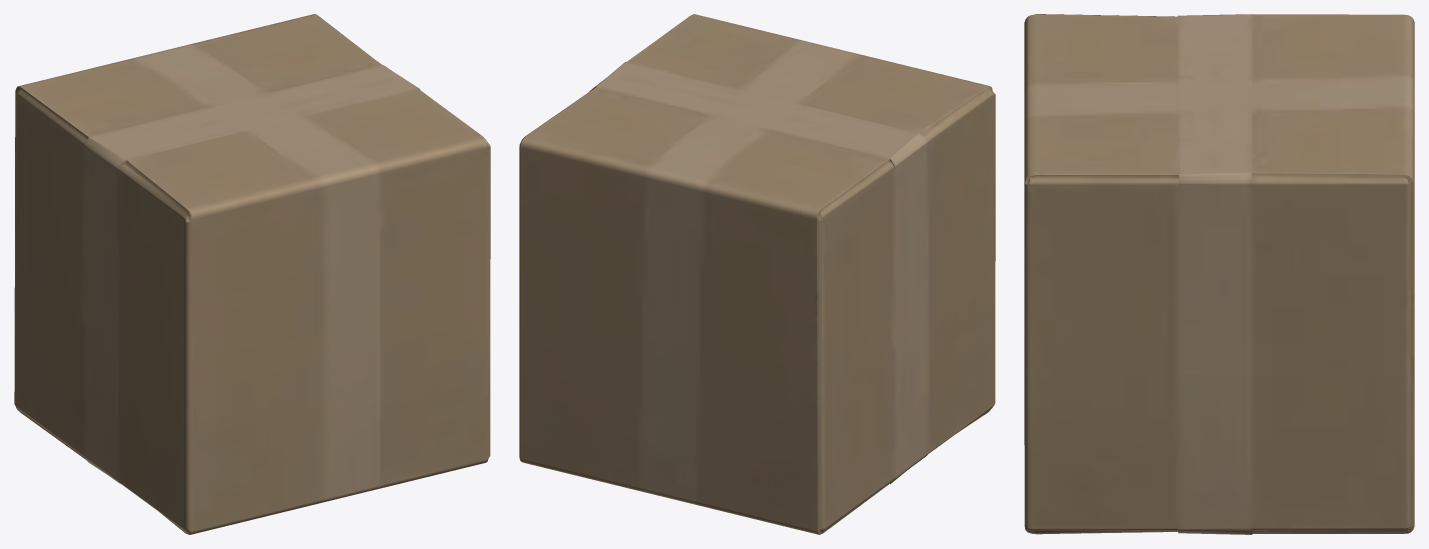
File: carton.glb
The picture shows the model from 3 angles, left to right: view 1: azimuth 30°, elevation 25°; view 2: azimuth 150°, elevation 25°; view 3: azimuth 270°, elevation 25°; orthographic projection. The views are drawn at different scales.
Visible parts, largest first — view 1: body; view 2: body; view 3: body.
Boxes of the visible parts, bbox=[...] form: body: bbox=[14, 14, 490, 534]; body: bbox=[519, 14, 995, 534]; body: bbox=[1024, 14, 1414, 534].
Bounding box in the file's own units: 0.5103 × 0.5207 × 0.5099.
1 material, 1 textured.
